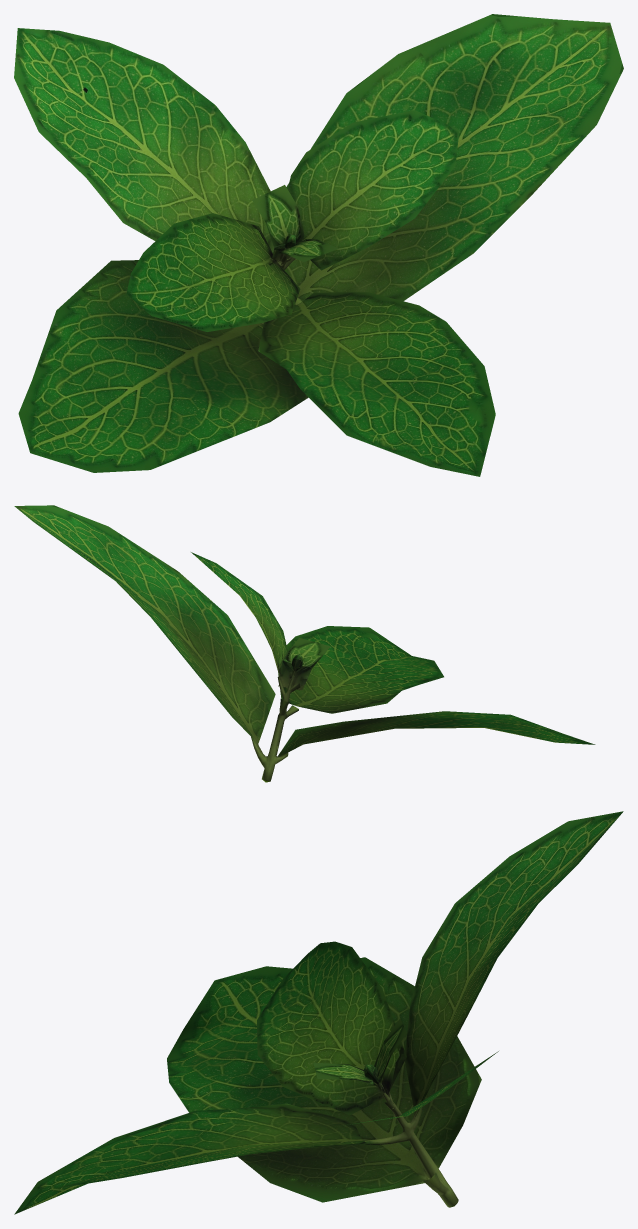
File: Mint_Fuze_01.glb
The picture shows the model from 3 angles, top to bottom: view 1: azimuth 30°, elevation 25°; view 2: azimuth 150°, elevation 25°; view 3: azimuth 270°, elevation 25°; orthographic projection. The views are drawn at different scales.
Visible parts, largest first — view 1: Mint_Low001; view 2: Mint_Low001; view 3: Mint_Low001.
Boxes of the visible parts, bbox=[...] form: Mint_Low001: bbox=[14, 14, 623, 476]; Mint_Low001: bbox=[14, 505, 595, 782]; Mint_Low001: bbox=[14, 811, 623, 1214].
Size of the model in its own units: 0.0895 by 0.0369 by 0.0654.
Materials: 1 (1 with a texture image).
